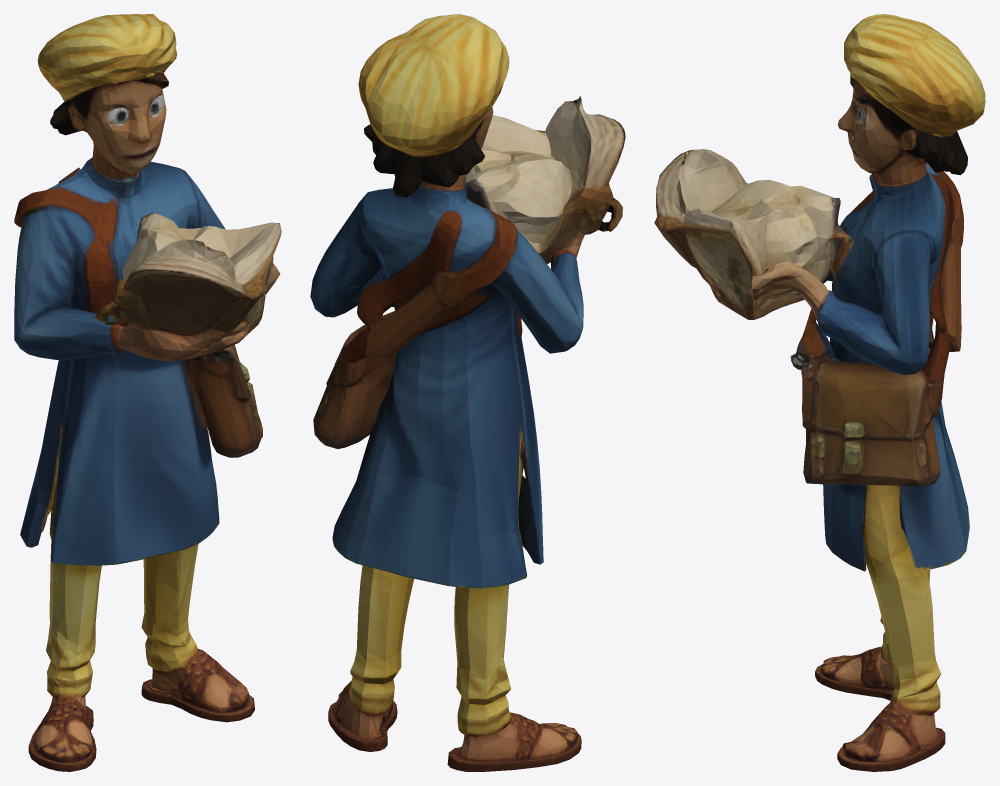
File: sutradhar.glb
3 renders of one model, left to right at view 1: azimuth 30°, elevation 25°; view 2: azimuth 150°, elevation 25°; view 3: azimuth 270°, elevation 25°, orthographic. The views are drawn at different scales.
Visible parts, largest first — view 1: world; view 2: world; view 3: world.
Boxes of the visible parts, x1,y1,x2,y2 form: world: (14, 14, 281, 771); world: (310, 14, 625, 771); world: (654, 14, 985, 771).
Size of the model in its own units: 0.3574 by 0.9999 by 0.4357.
1 material, 1 textured.
